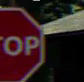Stop: (0, 3, 48, 81)
